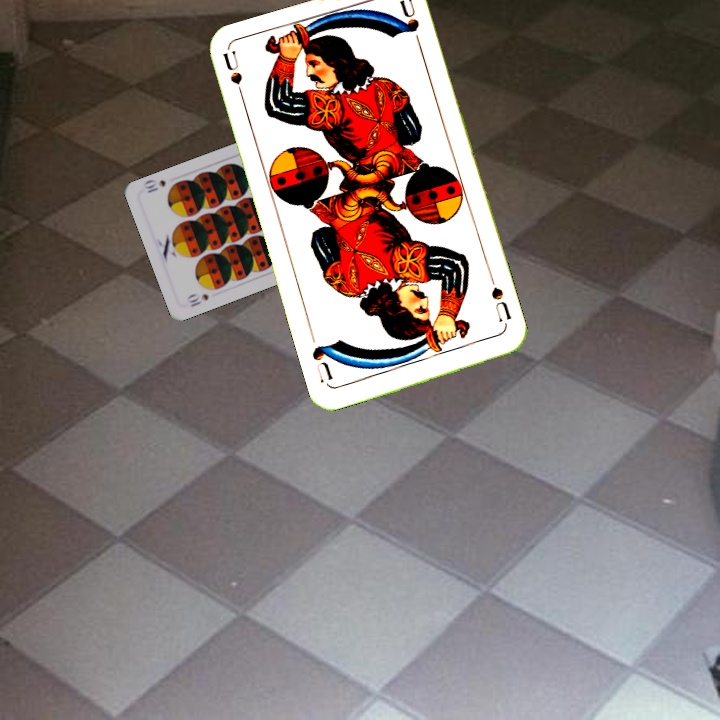S10: (183, 289, 211, 310)
SU: (219, 48, 249, 108), (487, 283, 515, 325)
